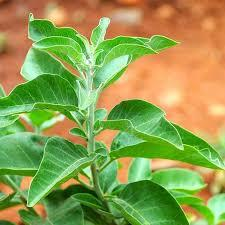healthy_leaf: (22, 26, 182, 207)
